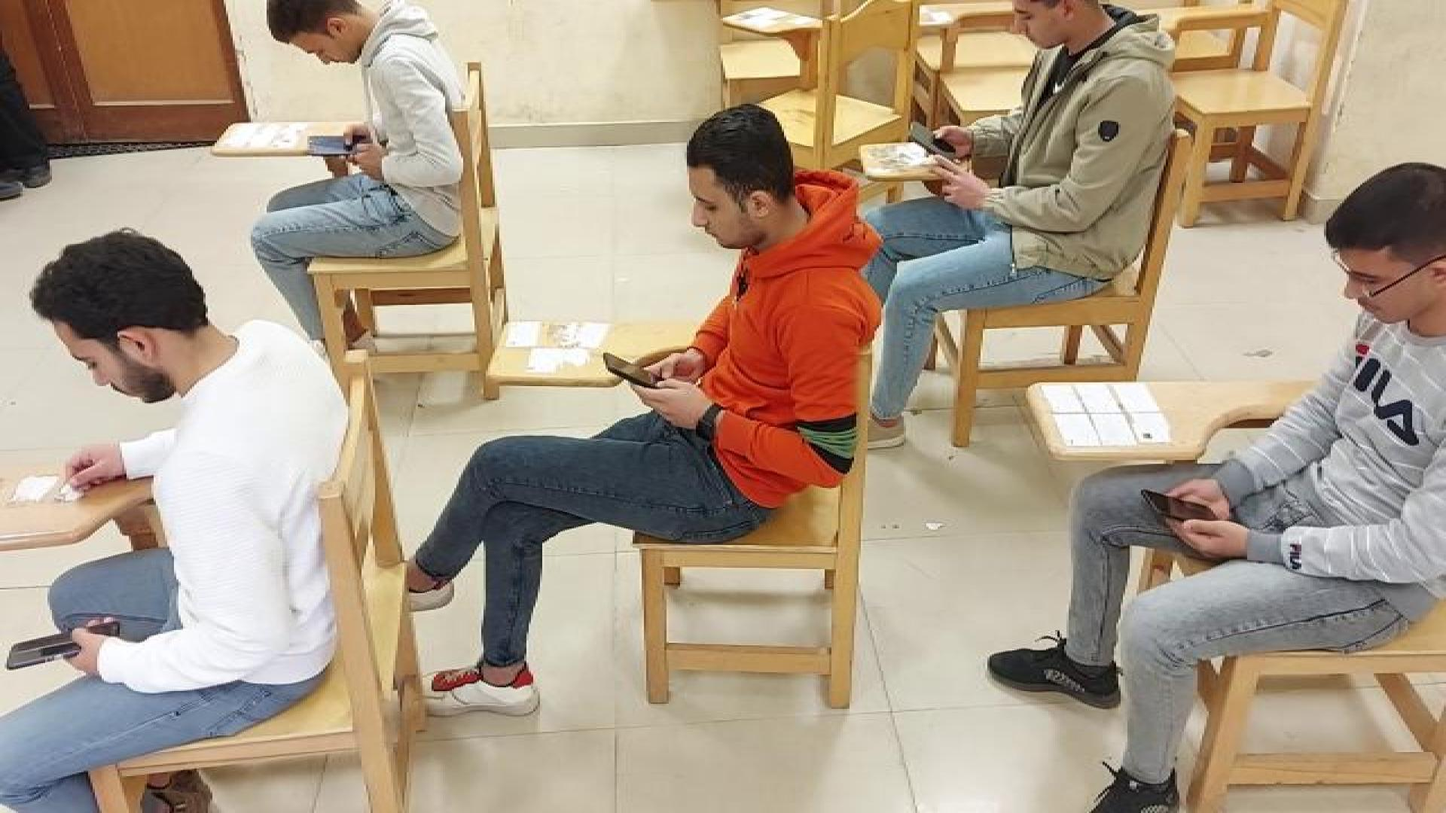phone: (5, 620, 122, 672), (1140, 488, 1219, 523), (908, 119, 956, 164), (602, 351, 659, 387), (307, 135, 368, 155)
